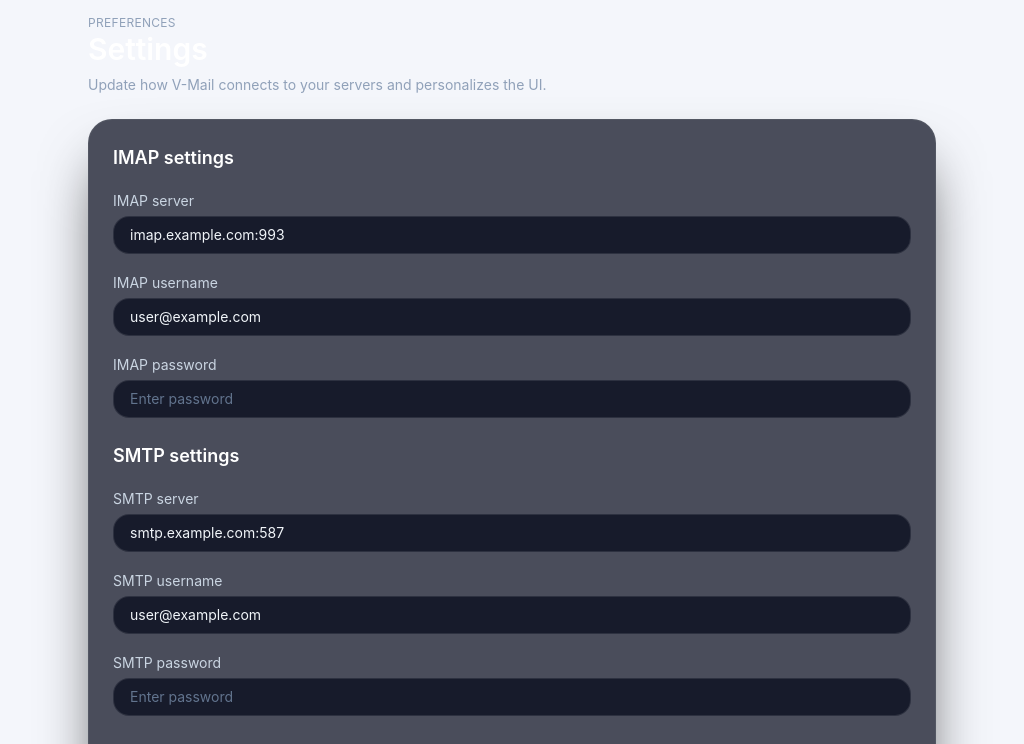
Test: SettingsPage › should show error message on save failure
Check: the field showing "imap.example.com:993" is shown, box [113,216,911,254]
Type "test123" into the password field labelled "IMAP password" at (512, 399), box [113,380,911,418]
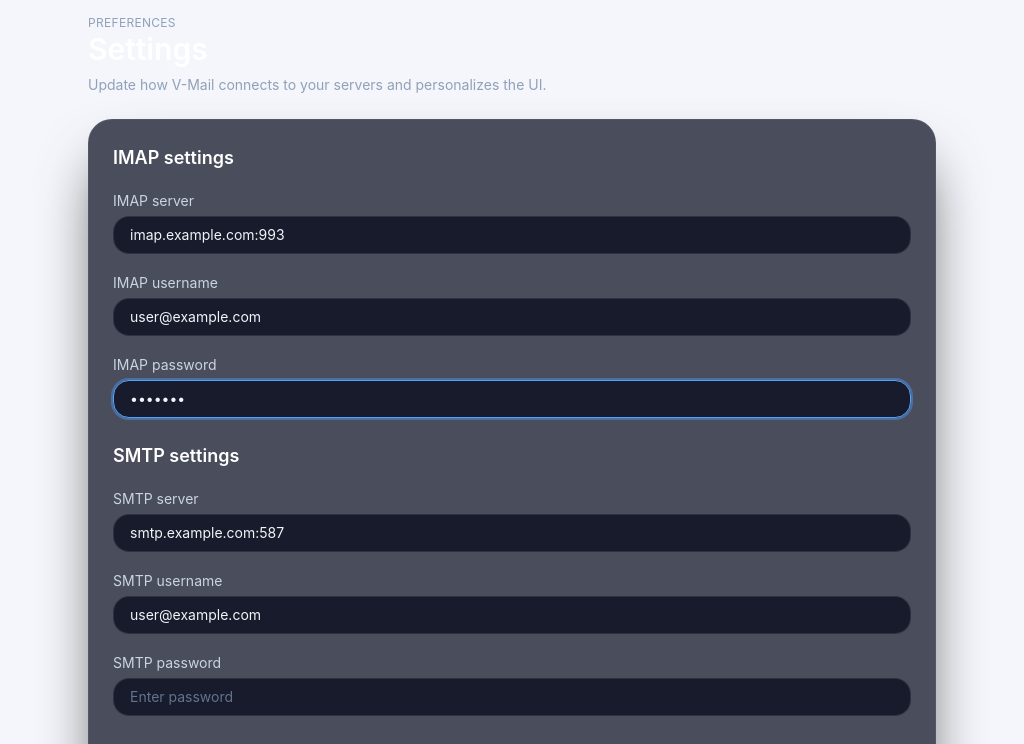
Type "test123" into the password field labelled "SMTP password" at (512, 697), box [113,678,911,716]
(page scrolled)
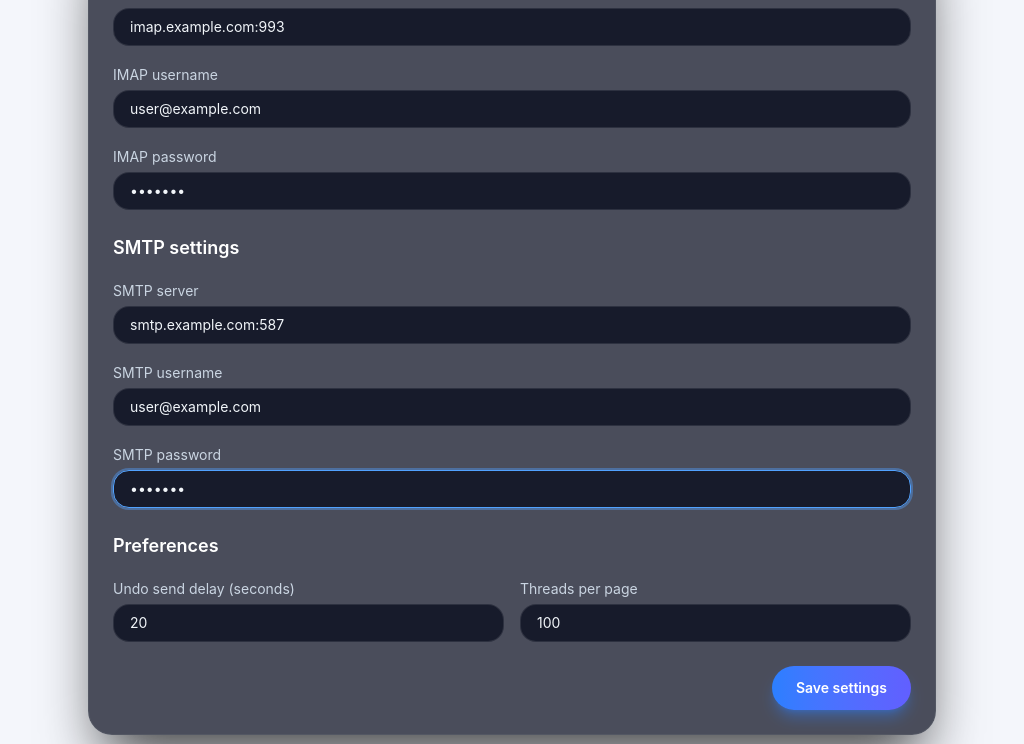
Click the button "Save settings" at (841, 688), box [772,666,911,710]
(page scrolled)
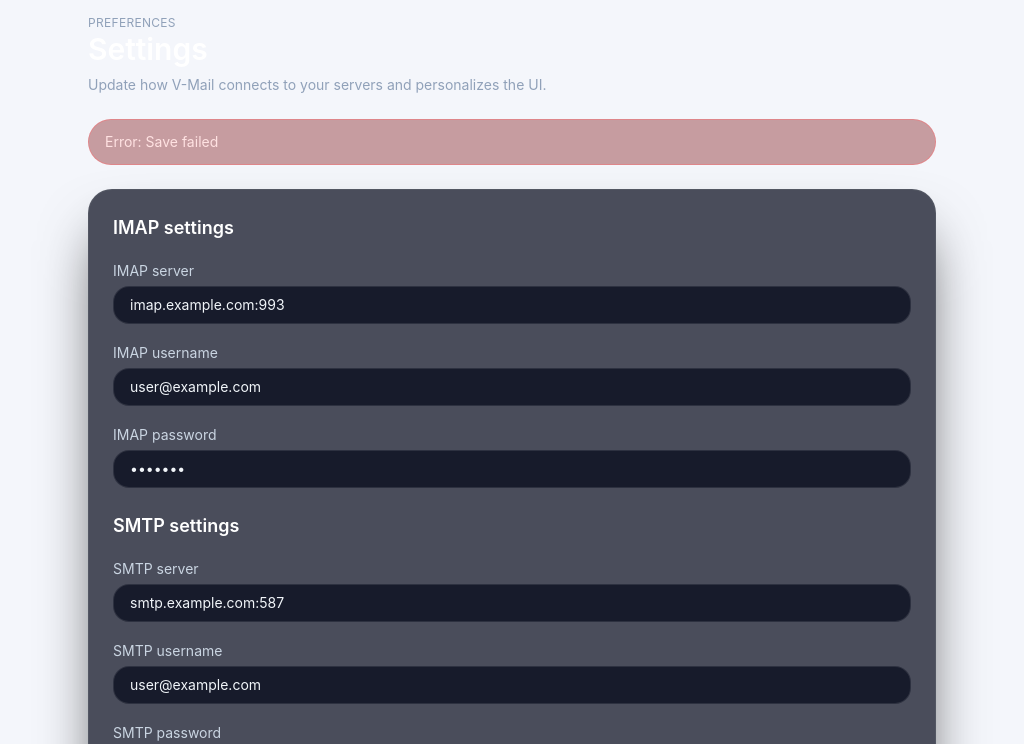
Check: the text "Error: Save failed" is shown, box [88,119,936,165]
